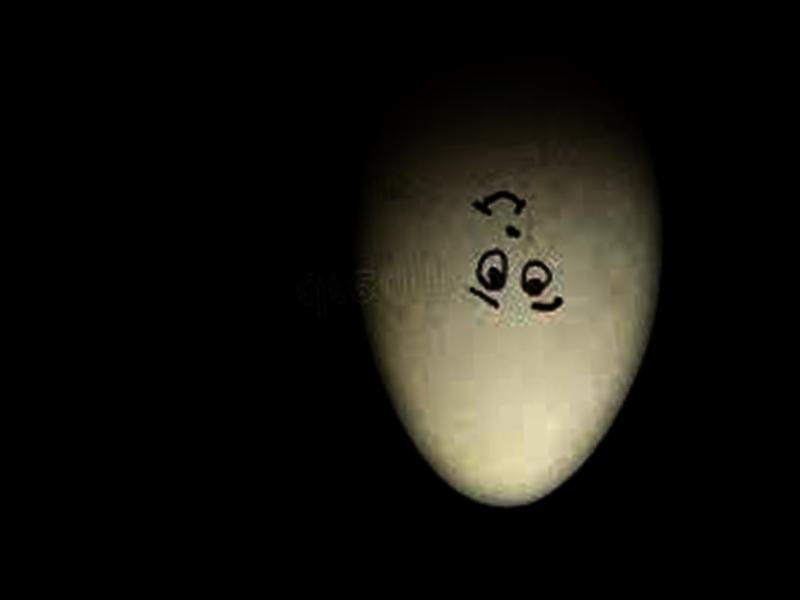Eggs: (347, 43, 673, 515)
